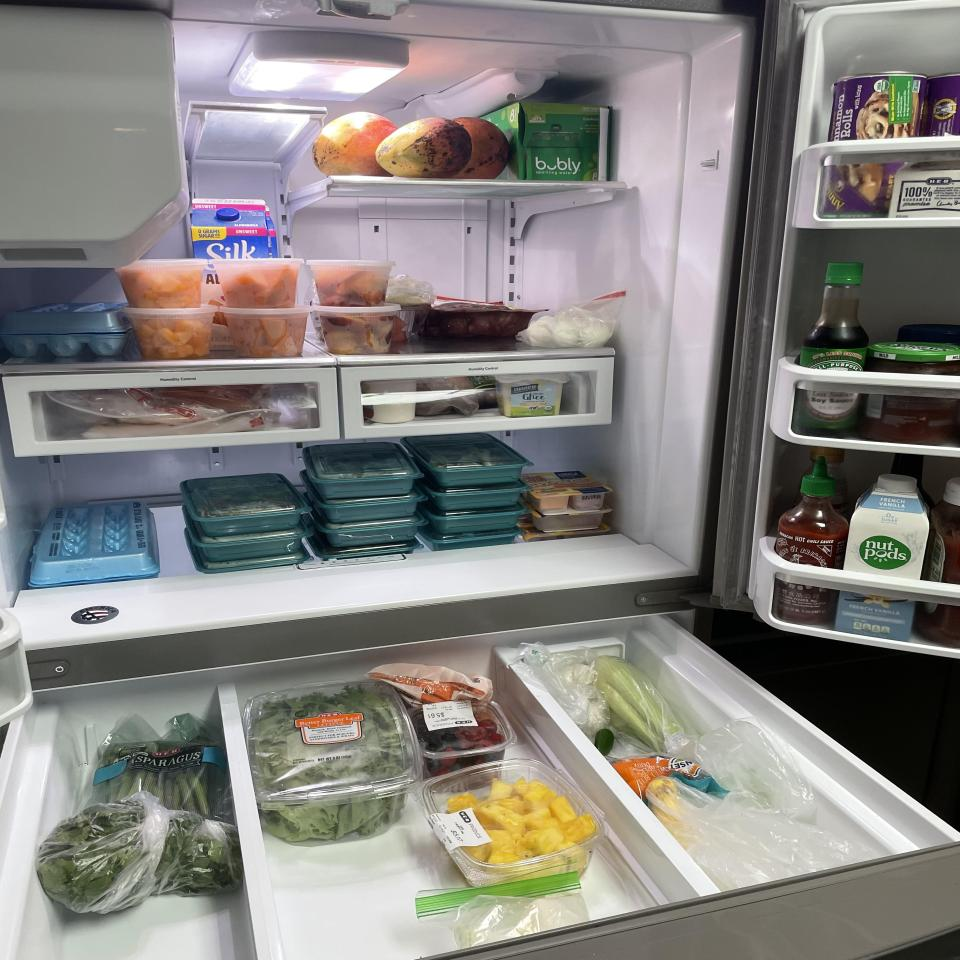Leche: (193, 199, 269, 350)
Zanahoria: (373, 666, 494, 708), (614, 757, 680, 796)
